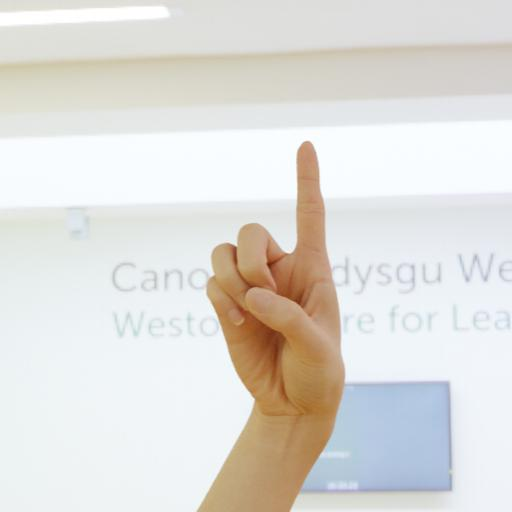D: (203, 138, 352, 420)
